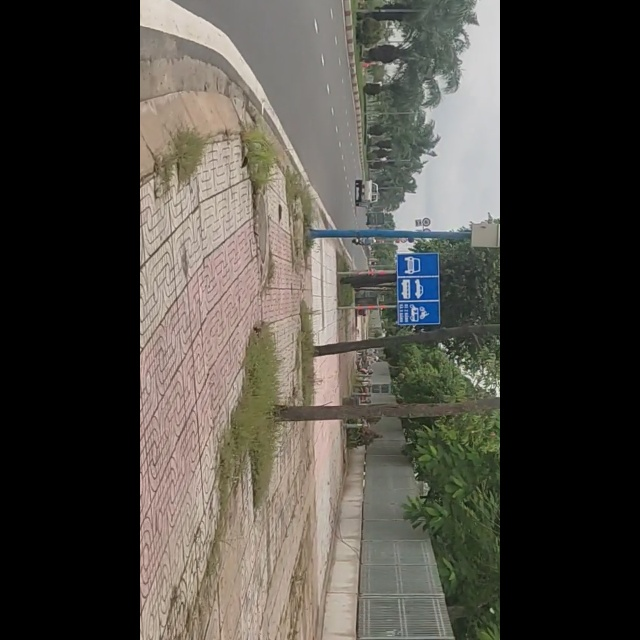bien_chi_dan: (449, 251, 544, 327)
